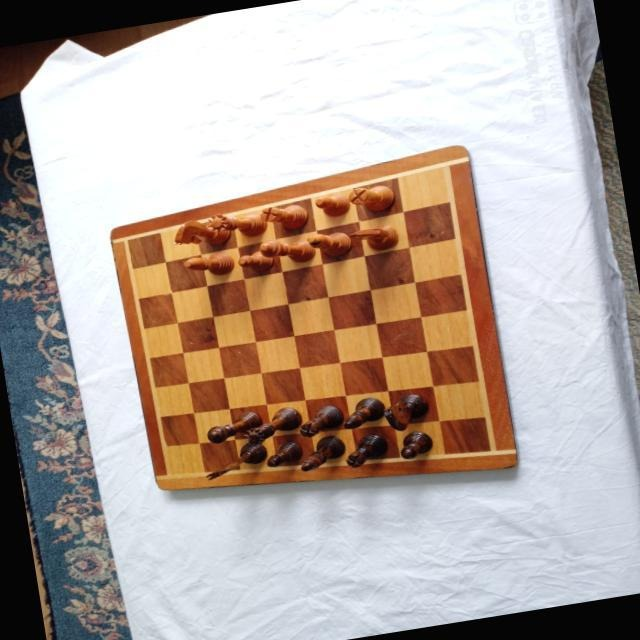black-bishop: (296, 433, 348, 471), (341, 395, 387, 429)
black-king: (204, 408, 264, 443)
black-knight: (200, 438, 269, 480), (381, 391, 431, 433)
black-pawn: (397, 428, 435, 459), (264, 440, 303, 468)
black-queen: (239, 404, 305, 447)
black-rook: (342, 431, 390, 468), (295, 402, 345, 437)
white-bishop: (180, 249, 235, 281), (305, 227, 353, 260)
white-king: (258, 232, 316, 268)
white-knight: (170, 213, 233, 251), (348, 223, 400, 254)
white-pawn: (236, 249, 275, 275), (314, 191, 350, 219)
white-queen: (203, 205, 268, 242)
white-rook: (258, 200, 310, 234), (347, 180, 397, 215)
